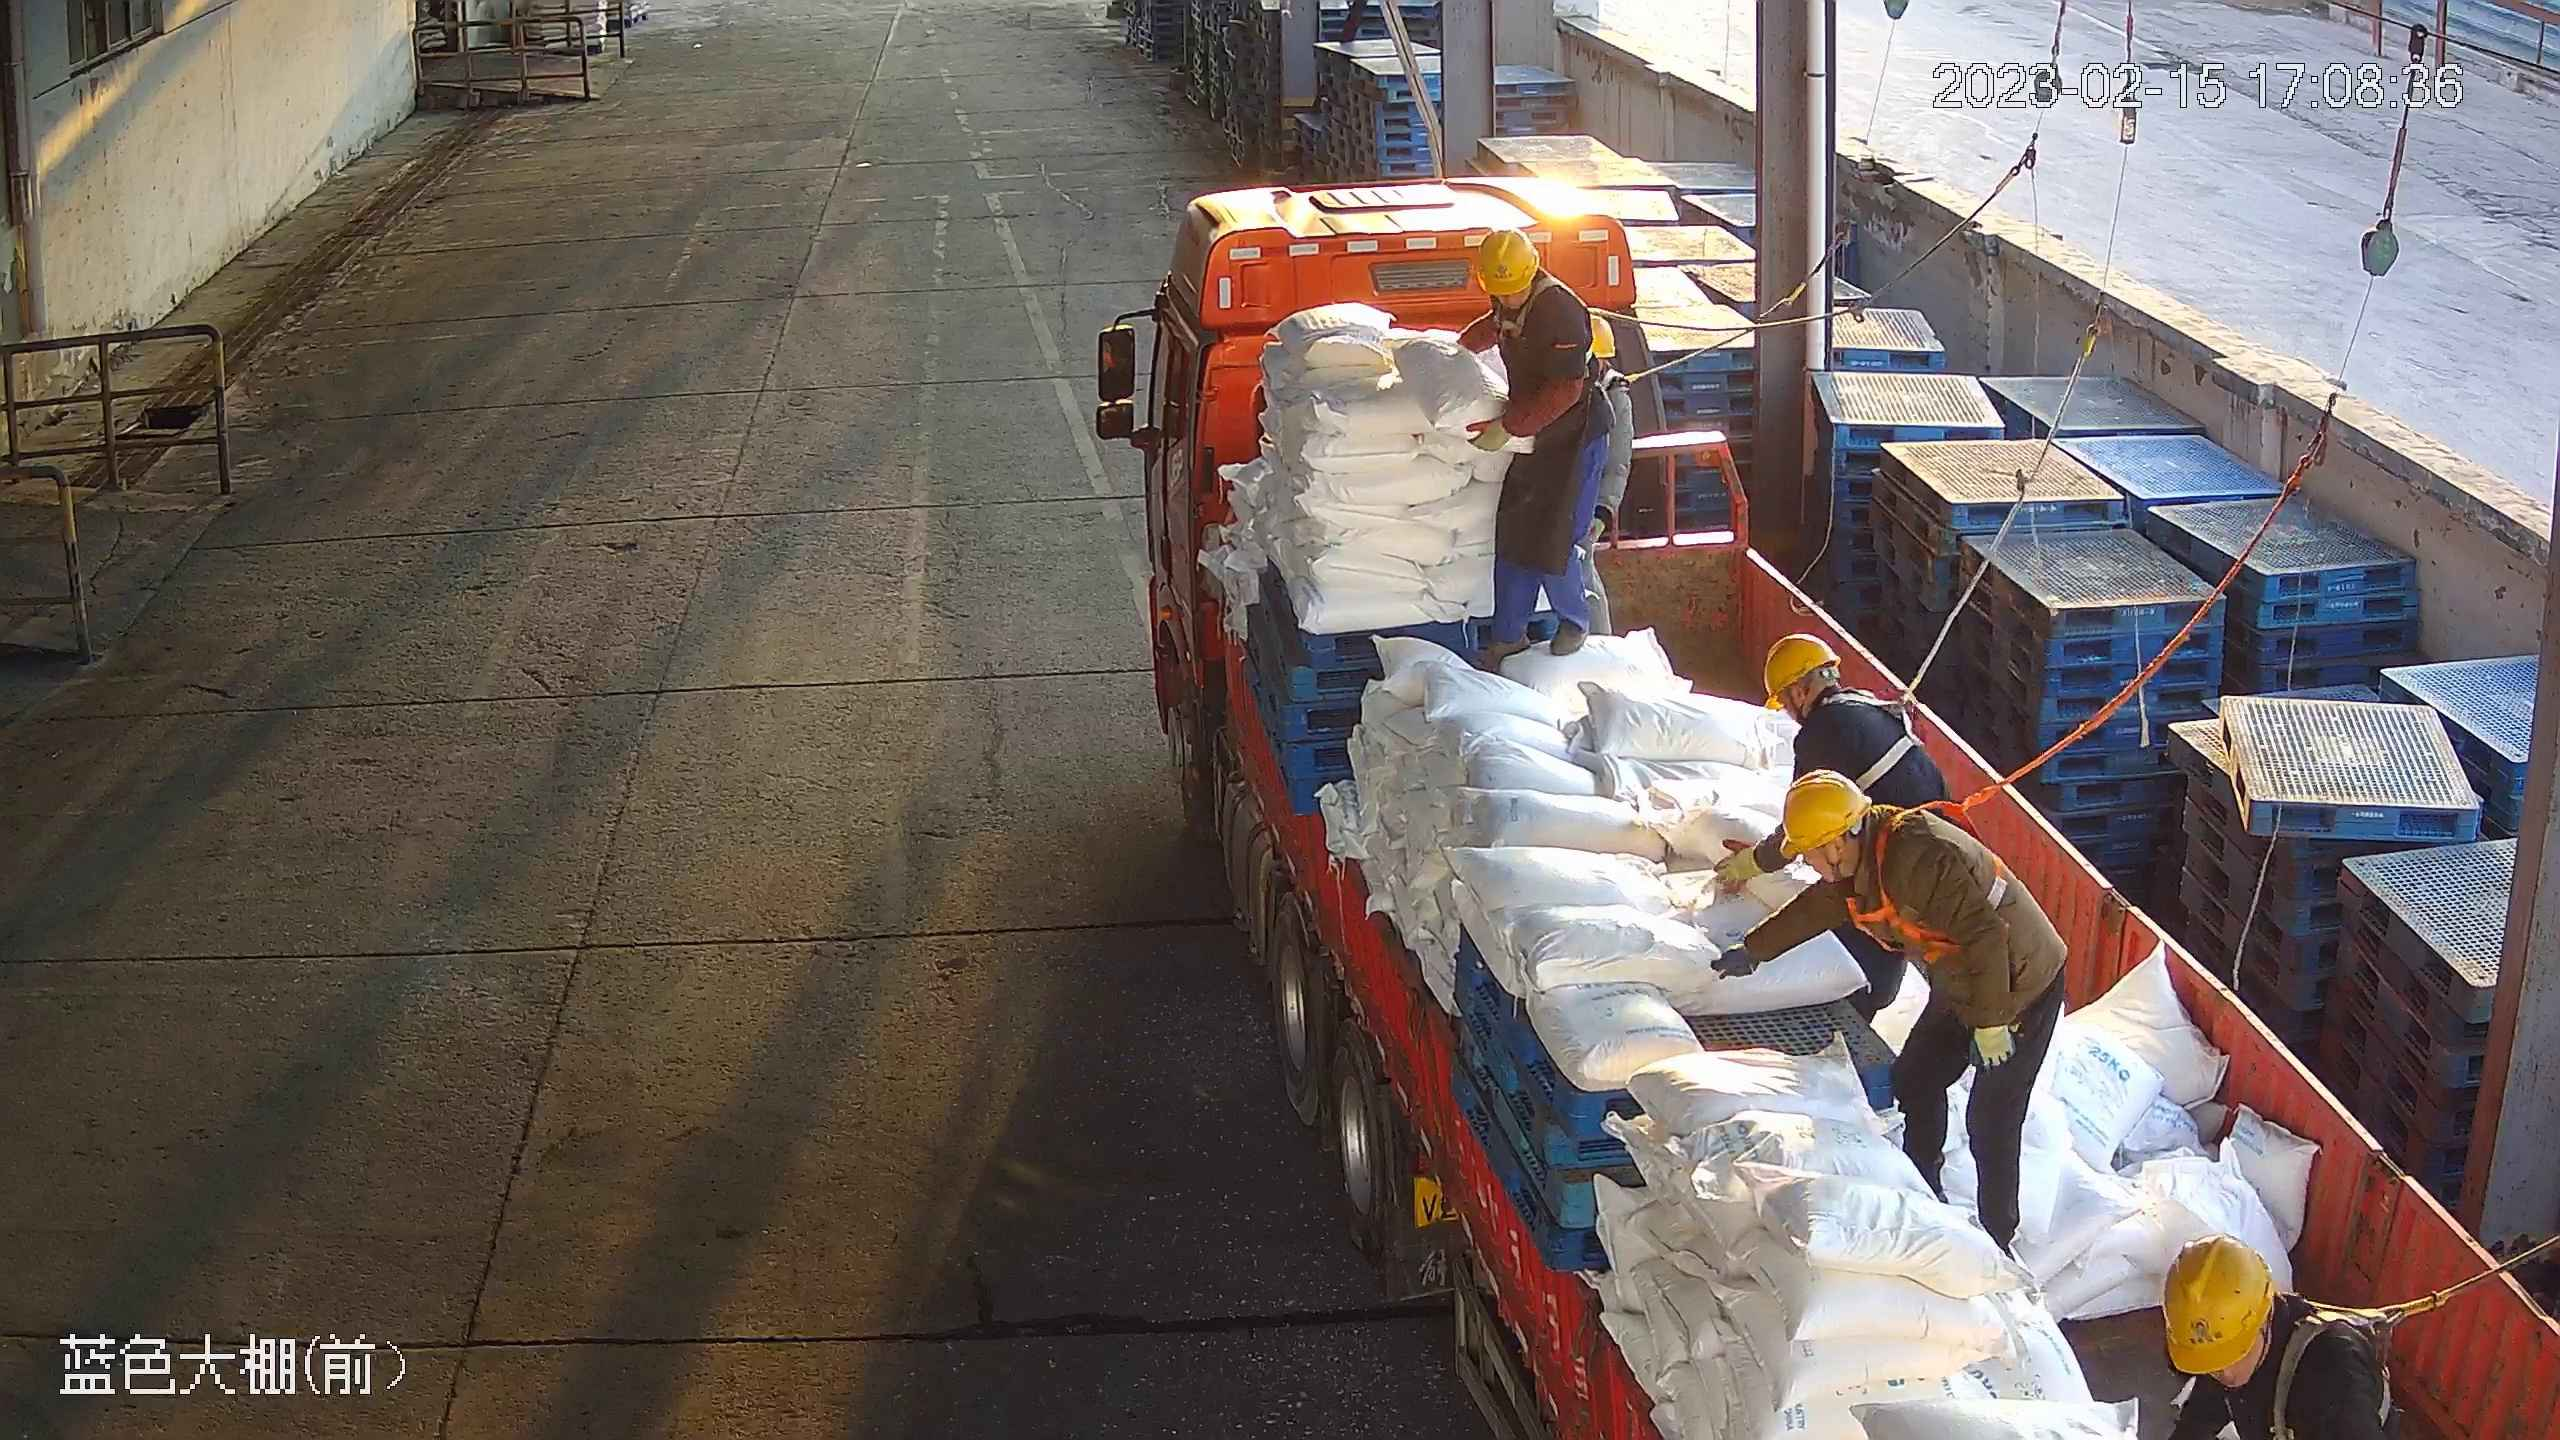belt: (1844, 799, 1977, 964), (2266, 1314, 2377, 1440), (1835, 684, 1935, 775), (1481, 290, 1551, 336)
head: (2153, 1230, 2398, 1440), (1777, 771, 1953, 912), (1763, 631, 1929, 755), (1451, 220, 1594, 358)
helmet: (2161, 1242, 2279, 1382), (1779, 771, 1877, 870), (1751, 627, 1855, 690), (1473, 220, 1546, 297)
people: (1771, 764, 2073, 1257), (1449, 218, 1611, 668)
truck: (1094, 190, 2560, 1440)
